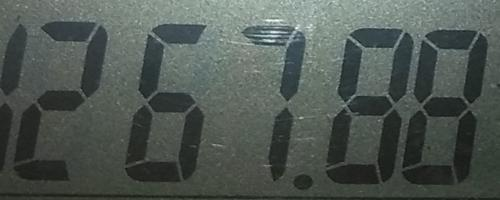.: (290, 171, 315, 193)
